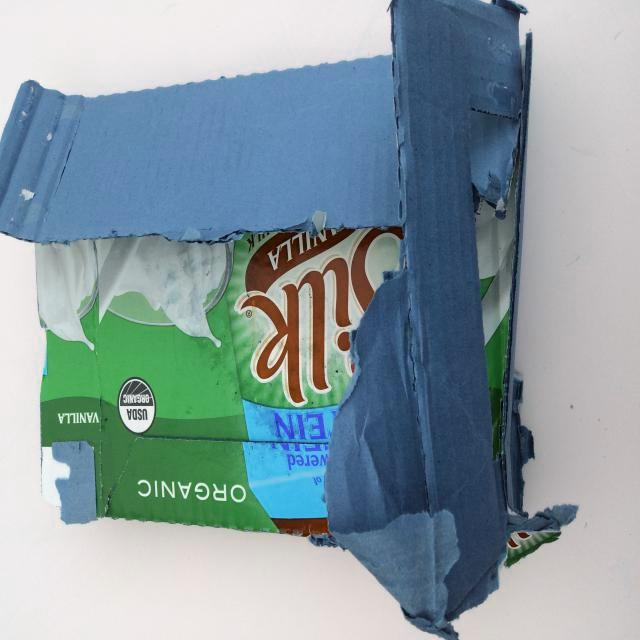cardboard: (0, 0, 587, 640)
